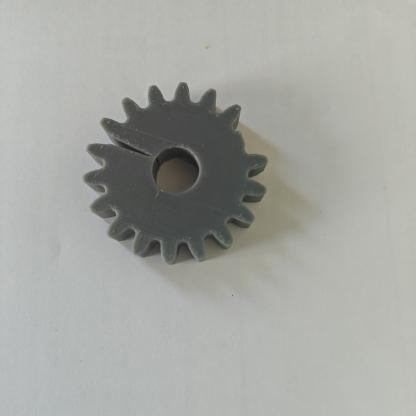defect: (75, 115, 171, 184), (214, 97, 280, 176)
gear: (66, 73, 298, 275)
